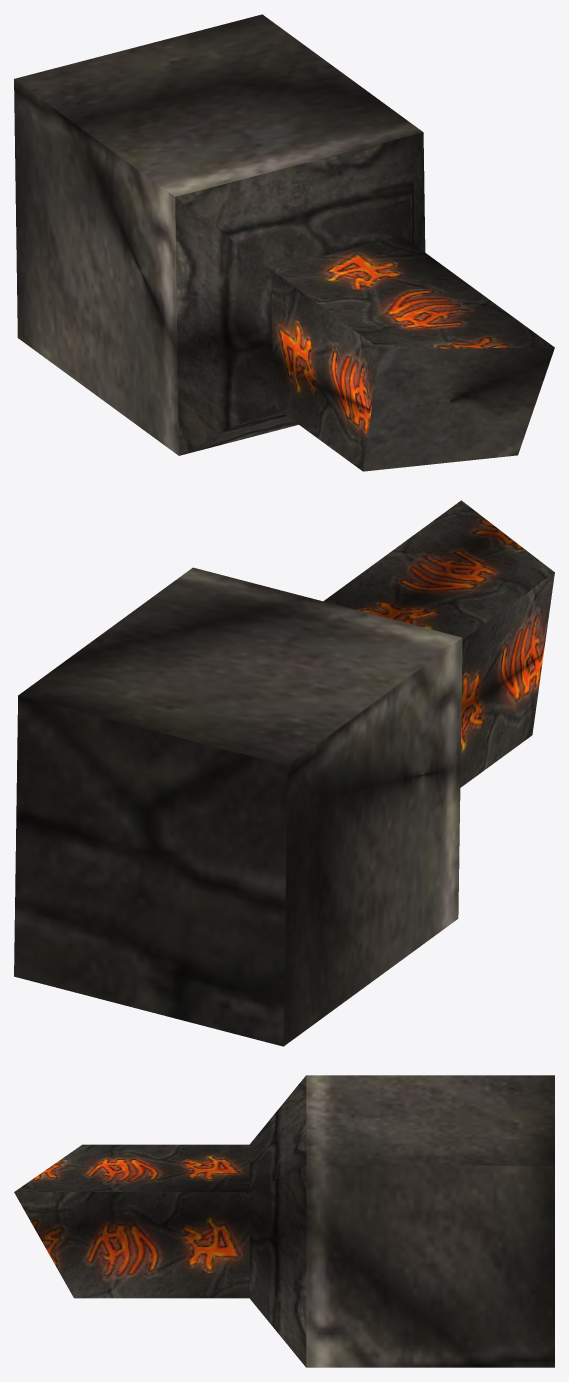
The model's file is column-B-destr_06.obj.
3 views of the same model, one above another, from view 1: azimuth 30°, elevation 25°; view 2: azimuth 150°, elevation 25°; view 3: azimuth 270°, elevation 25° (orthographic). The views are drawn at different scales.
Visible parts, largest first — view 1: (null); view 2: (null); view 3: (null).
Part boxes in pixels (x1,y1,x2,y2): (null): (14, 14, 554, 471); (null): (14, 500, 554, 1046); (null): (14, 1075, 554, 1367).
Size of the model in its own units: 1.26 by 1.26 by 3.04.
